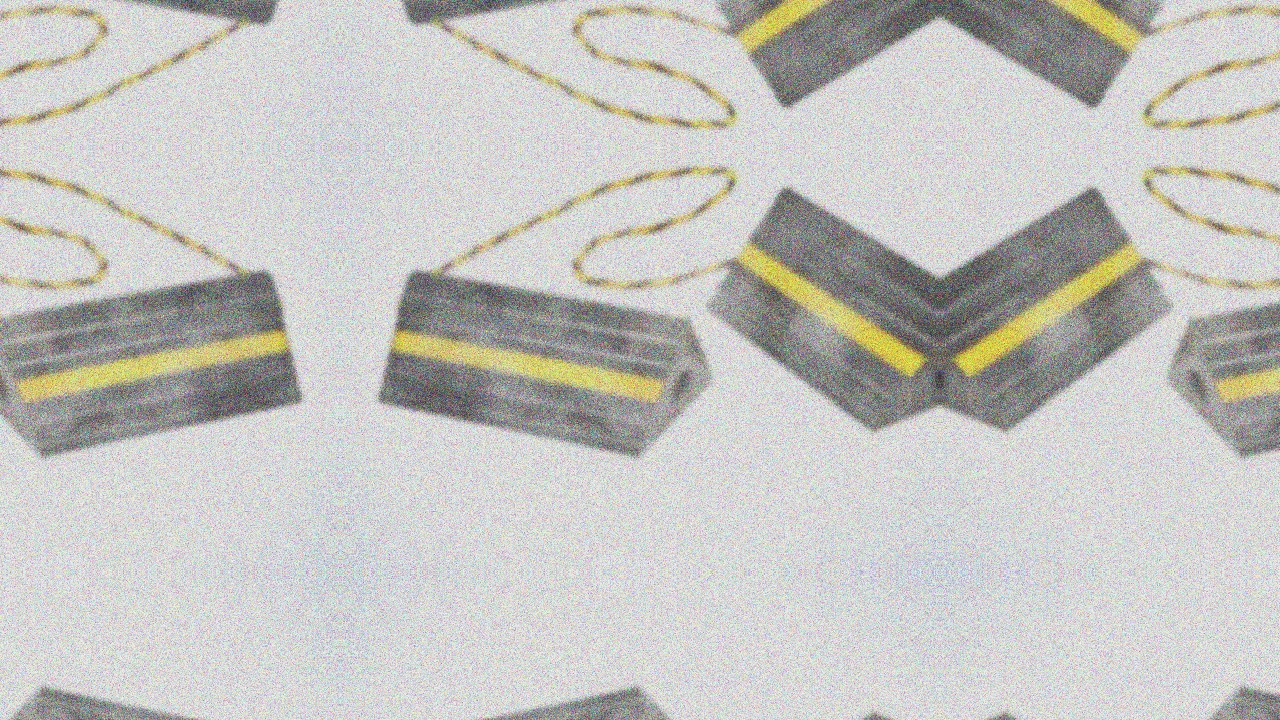chock: (355, 230, 749, 483), (665, 148, 940, 451), (940, 148, 1215, 451), (0, 230, 325, 483), (665, 0, 940, 147), (940, 0, 1215, 147), (1131, 230, 1280, 483), (355, 0, 749, 65), (355, 662, 749, 720), (0, 0, 325, 65), (0, 662, 325, 720)
